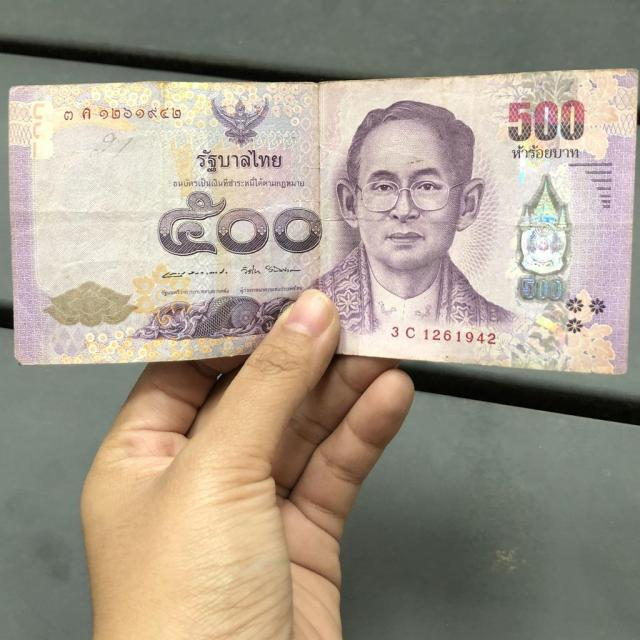THAI500: (9, 70, 637, 374)
